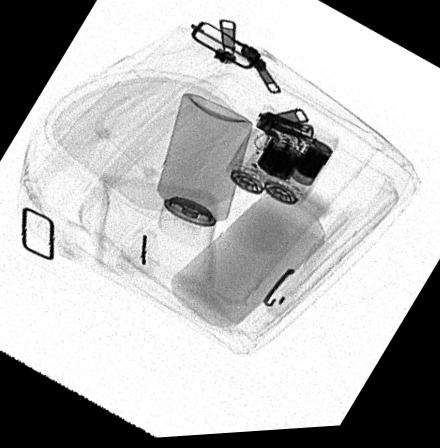Sprayer: (157, 96, 253, 253)
